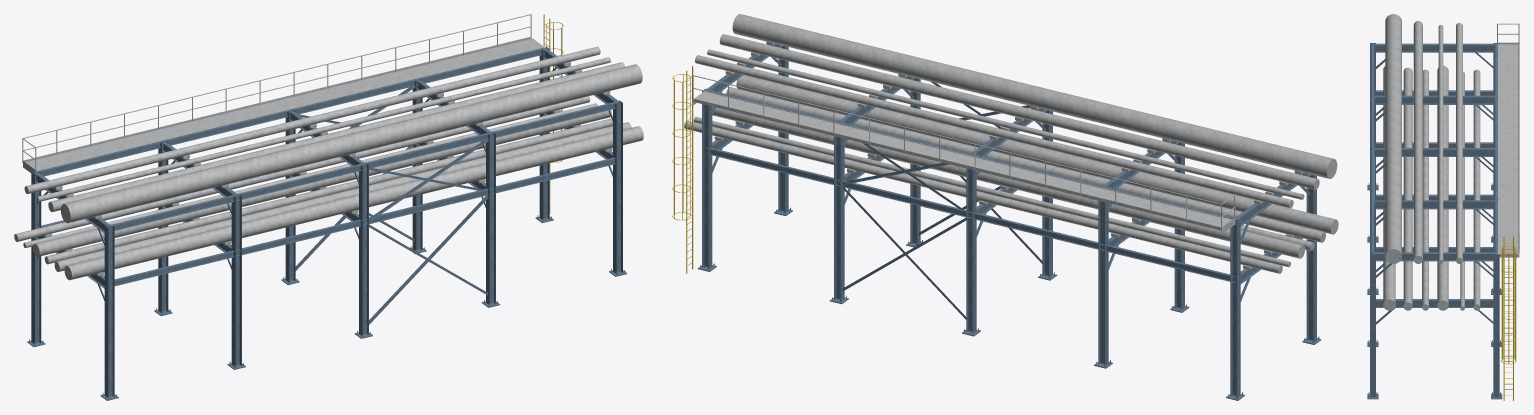
The model's file is pipe-rack.glb.
3 renders of one model, left to right at view 1: azimuth 30°, elevation 25°; view 2: azimuth 150°, elevation 25°; view 3: azimuth 270°, elevation 25°, orthographic. The views are drawn at different scales.
Parts seen in each view (by area): view 1: ProcessLines(context), PortalFrames, LongitudinalStruts&KneeBraces, AccessWalkway, VerticalBracing, PipeShoes, BasePlates&Anchors; view 2: ProcessLines(context), PortalFrames, AccessWalkway, LongitudinalStruts&KneeBraces, VerticalBracing, CagedLadder, PipeShoes, BasePlates&Anchors; view 3: ProcessLines(context), PortalFrames, AccessWalkway, LongitudinalStruts&KneeBraces, CagedLadder, BasePlates&Anchors.
Part boxes in pixels (<box>): ProcessLines(context): <box>14,46,643,280</box>; PortalFrames: <box>31,47,622,397</box>; LongitudinalStruts&KneeBraces: <box>36,47,618,300</box>; AccessWalkway: <box>22,14,545,173</box>; VerticalBracing: <box>289,82,491,328</box>; PipeShoes: <box>43,61,612,276</box>; BasePlates&Anchors: <box>27,215,627,400</box>; ProcessLines(context): <box>684,14,1338,273</box>; PortalFrames: <box>702,44,1316,397</box>; AccessWalkway: <box>692,75,1235,234</box>; LongitudinalStruts&KneeBraces: <box>706,57,1310,301</box>; VerticalBracing: <box>838,82,1042,319</box>; CagedLadder: <box>672,66,693,273</box>; PipeShoes: <box>714,41,1303,269</box>; BasePlates&Anchors: <box>697,207,1321,400</box>; ProcessLines(context): <box>1383,14,1480,310</box>; PortalFrames: <box>1370,43,1499,397</box>; AccessWalkway: <box>1496,23,1519,257</box>; LongitudinalStruts&KneeBraces: <box>1371,44,1497,324</box>; CagedLadder: <box>1501,236,1516,400</box>; BasePlates&Anchors: <box>1367,183,1502,399</box>.
Size of the model in its own units: 27 by 8.82 by 7.4.
Materials: 4 (4 with a texture image).
